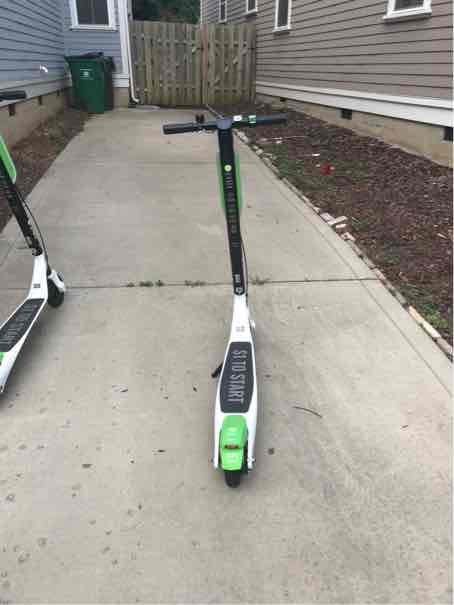scooter: (150, 102, 305, 482)
